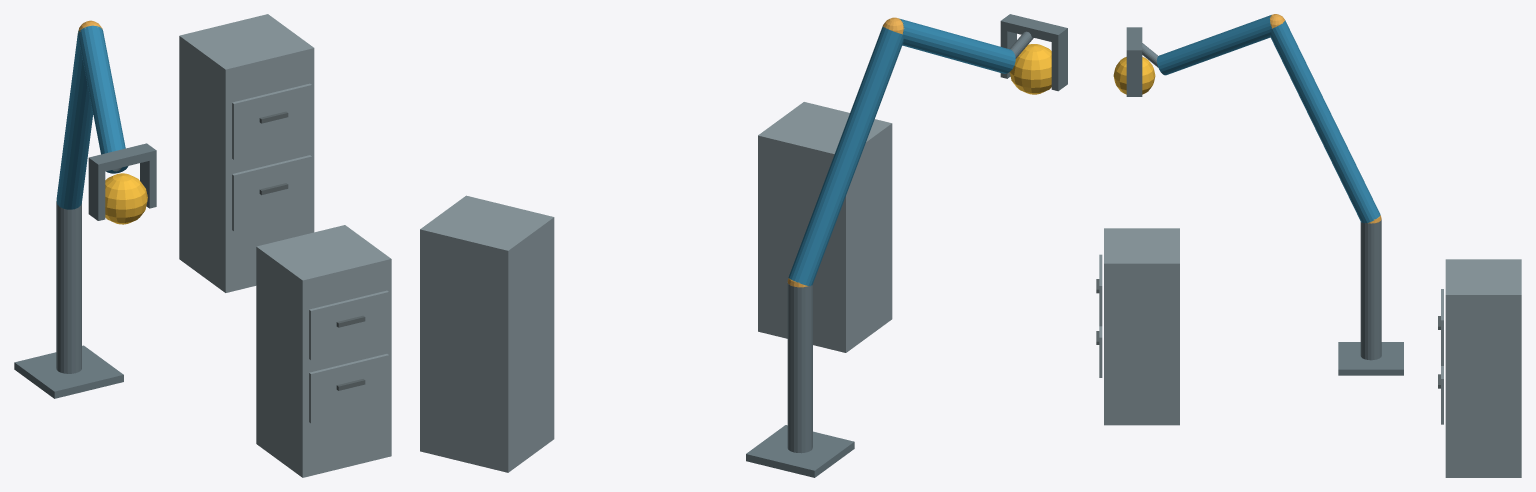
3 views of the same model, side by side, from view 1: azimuth 30°, elevation 25°; view 2: azimuth 150°, elevation 25°; view 3: azimuth 270°, elevation 25° (orthographic). The views are drawn at different scales.
Visible parts, largest first — view 1: cabinet_2 body, cabinet_1 body, cabinet_2 drawer front.001, cabinet_2 drawer front, fixed post, cabinet_1 drawer front.001, cabinet_1 drawer front, moving link 1, moving link 2, pedestal, ball ball_1, gripper bridge (+2 smaller); view 2: cabinet_2 body, cabinet_1 body, moving link 1, fixed post, moving link 2, pedestal, ball ball_1, gripper bridge, gripper finger -1; view 3: cabinet_2 body, cabinet_1 body, moving link 1, fixed post, moving link 2, pedestal, ball ball_1, gripper finger 1, gripper bridge.
Part boxes in pixels (x1,y1,x2,y2): cabinet_2 body: [179, 14, 314, 292]; cabinet_1 body: [256, 225, 391, 477]; cabinet_2 drawer front.001: [232, 83, 311, 159]; cabinet_2 drawer front: [232, 155, 311, 231]; fixed post: [56, 201, 81, 373]; cabinet_1 drawer front.001: [309, 290, 388, 360]; cabinet_1 drawer front: [309, 354, 388, 423]; moving link 1: [56, 30, 93, 209]; moving link 2: [78, 25, 128, 173]; pedestal: [14, 345, 123, 398]; ball ball_1: [105, 173, 147, 224]; gripper bridge: [88, 143, 156, 173]; cabinet_2 body: [420, 195, 554, 472]; cabinet_1 body: [758, 102, 892, 352]; moving link 1: [788, 26, 903, 286]; fixed post: [787, 283, 812, 453]; moving link 2: [899, 18, 1015, 73]; pedestal: [746, 425, 854, 477]; ball ball_1: [1009, 44, 1051, 94]; gripper bridge: [1000, 14, 1067, 43]; gripper finger -1: [1051, 37, 1067, 91]; cabinet_2 body: [1445, 259, 1521, 477]; cabinet_1 body: [1104, 228, 1179, 425]; moving link 1: [1270, 20, 1380, 223]; fixed post: [1360, 219, 1381, 360]; moving link 2: [1157, 15, 1271, 75]; pedestal: [1338, 342, 1403, 375]; ball ball_1: [1113, 57, 1155, 94]; gripper finger 1: [1126, 57, 1142, 96]; gripper bridge: [1126, 27, 1142, 57].
Size of the model in its own units: 1.48 by 1.4 by 1.62.
